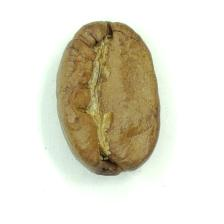NG: (68, 25, 147, 168)
